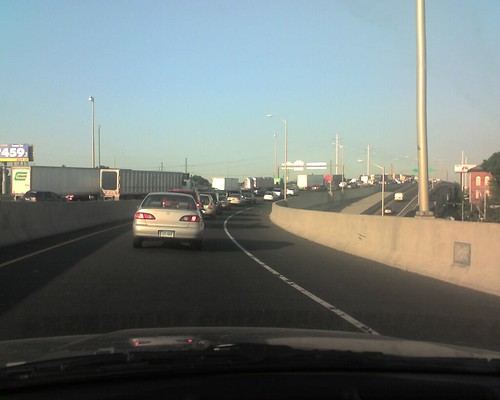car: (127, 189, 212, 248)
road: (1, 197, 500, 400)
sky: (1, 1, 483, 159)
truck: (5, 166, 188, 200)
